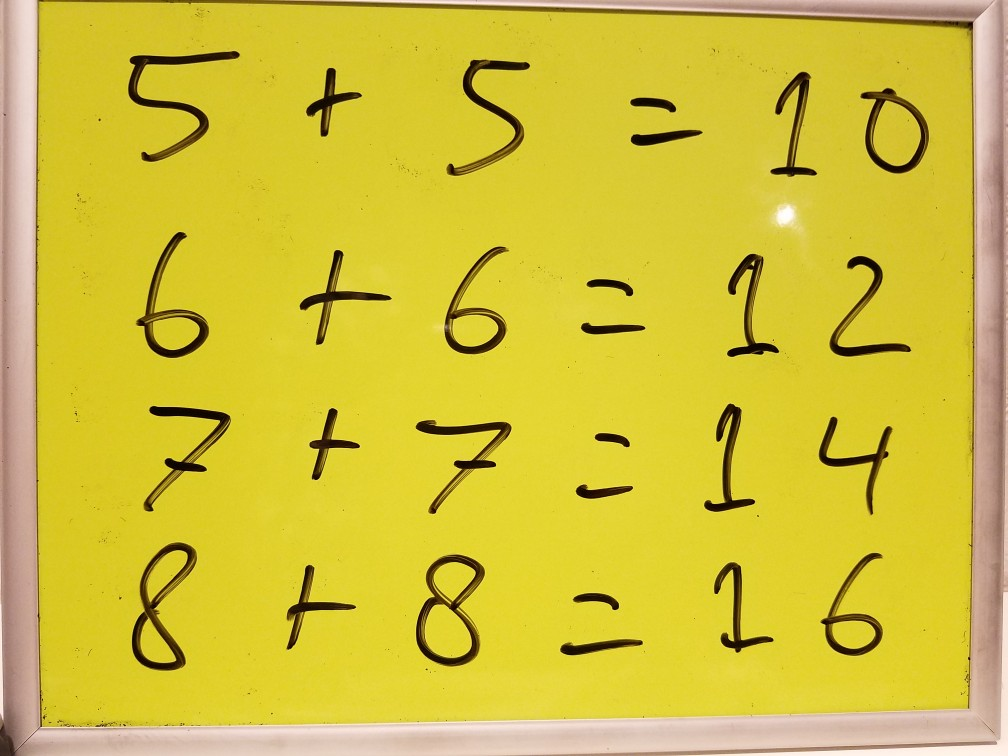+: (289, 235, 395, 353), (263, 547, 359, 660), (295, 400, 365, 488), (304, 59, 364, 145)
0: (847, 73, 940, 187)
1: (687, 395, 770, 528), (713, 241, 788, 369), (756, 56, 826, 187), (695, 553, 777, 659)
2: (821, 246, 921, 370)
4: (805, 400, 905, 528)
5: (112, 35, 246, 171), (438, 36, 542, 185)
6: (124, 216, 220, 362), (436, 233, 521, 368), (810, 540, 897, 668)
7: (126, 389, 236, 518), (410, 400, 516, 528)
8: (118, 539, 216, 691), (400, 550, 500, 673)
=: (560, 405, 652, 512), (552, 576, 654, 668), (566, 262, 660, 347), (615, 76, 711, 159)
